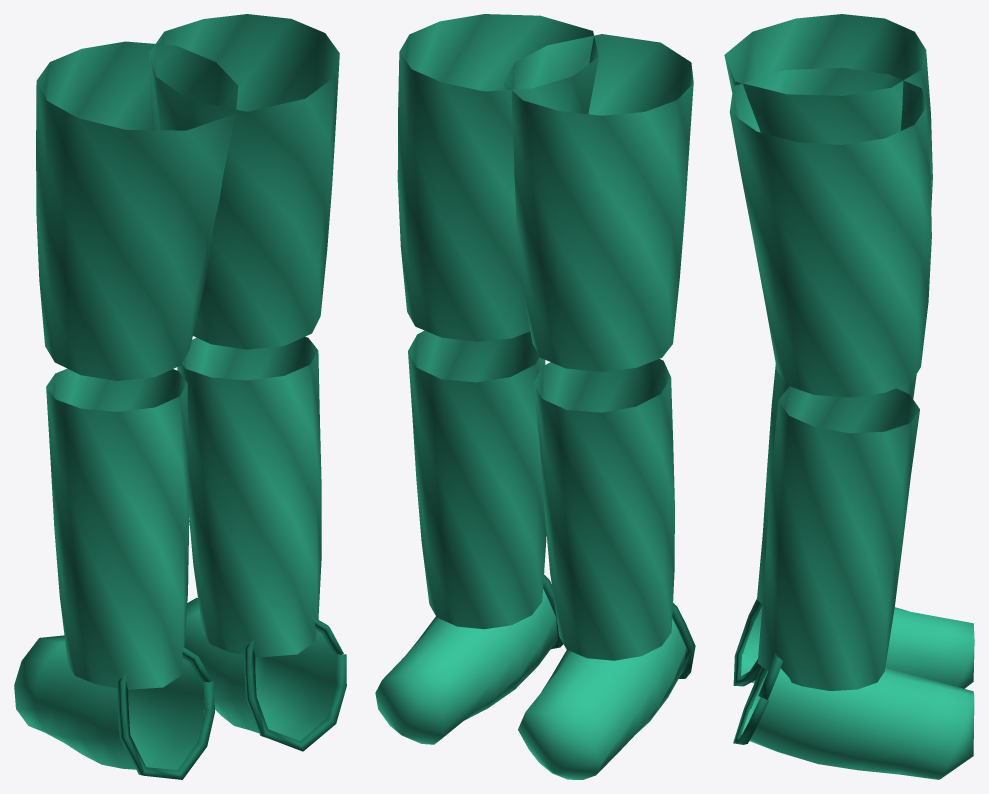
File: mythril_greaves.glb
3 views of the same model, side by side, from view 1: azimuth 30°, elevation 25°; view 2: azimuth 150°, elevation 25°; view 3: azimuth 270°, elevation 25° (orthographic). The views are drawn at different scales.
Parts seen in each view (by area): view 1: mythril_greaves_cuisse.L; view 2: mythril_greaves_cuisse.L; view 3: mythril_greaves_cuisse.L.
Boxes of the visible parts, box(x1,y1,x2,y2) form: mythril_greaves_cuisse.L: box(14, 14, 346, 779); mythril_greaves_cuisse.L: box(375, 14, 695, 779); mythril_greaves_cuisse.L: box(724, 14, 974, 779).
Bounding box in the file's own units: 0.403 × 0.9485 × 0.3253.
